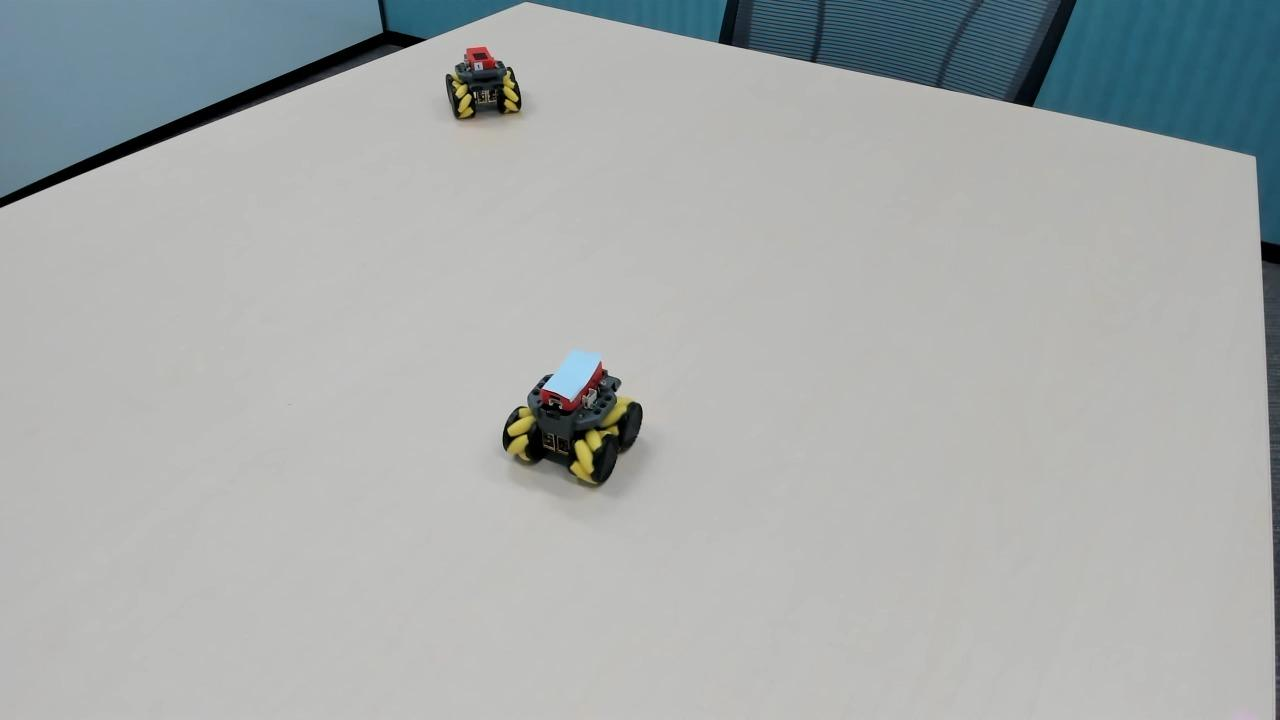B-Robot: (491, 340, 651, 496)
R-Robot: (441, 39, 536, 136)
